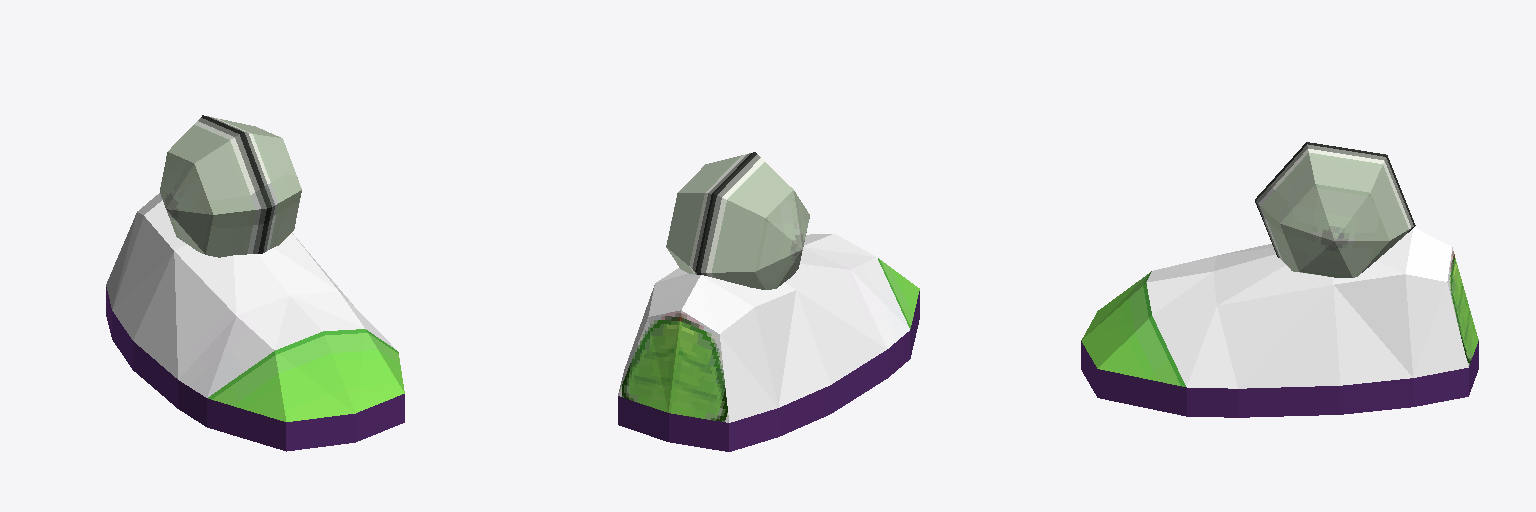
3 renders of one model, left to right at view 1: azimuth 30°, elevation 25°; view 2: azimuth 150°, elevation 25°; view 3: azimuth 270°, elevation 25°, orthographic.
Parts seen in each view (by area): view 1: buzzlightyLeftFoot_buzzlighty.004; view 2: buzzlightyLeftFoot_buzzlighty.004; view 3: buzzlightyLeftFoot_buzzlighty.004.
Boxes of the visible parts, <box> form: buzzlightyLeftFoot_buzzlighty.004: <box>106,115,404,451</box>; buzzlightyLeftFoot_buzzlighty.004: <box>618,152,919,451</box>; buzzlightyLeftFoot_buzzlighty.004: <box>1081,142,1478,417</box>.
Bounding box in the file's own units: 0.1084 × 0.1195 × 0.1889.
Materials: 1 (1 with a texture image).